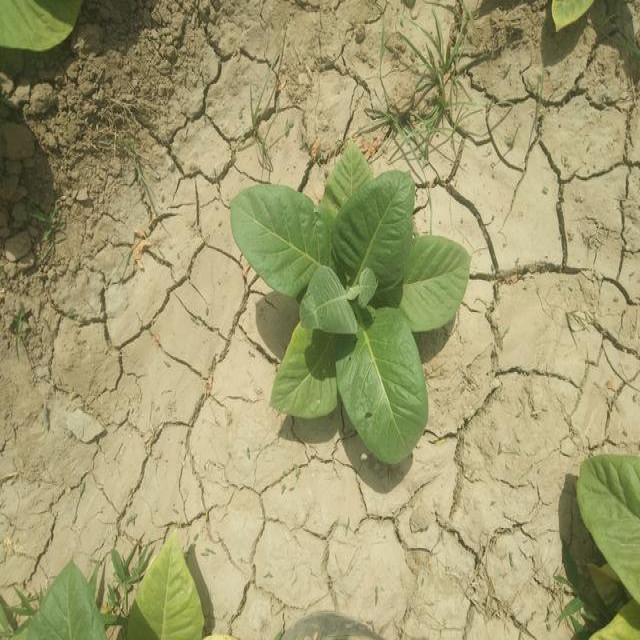crop: (226, 134, 470, 476)
